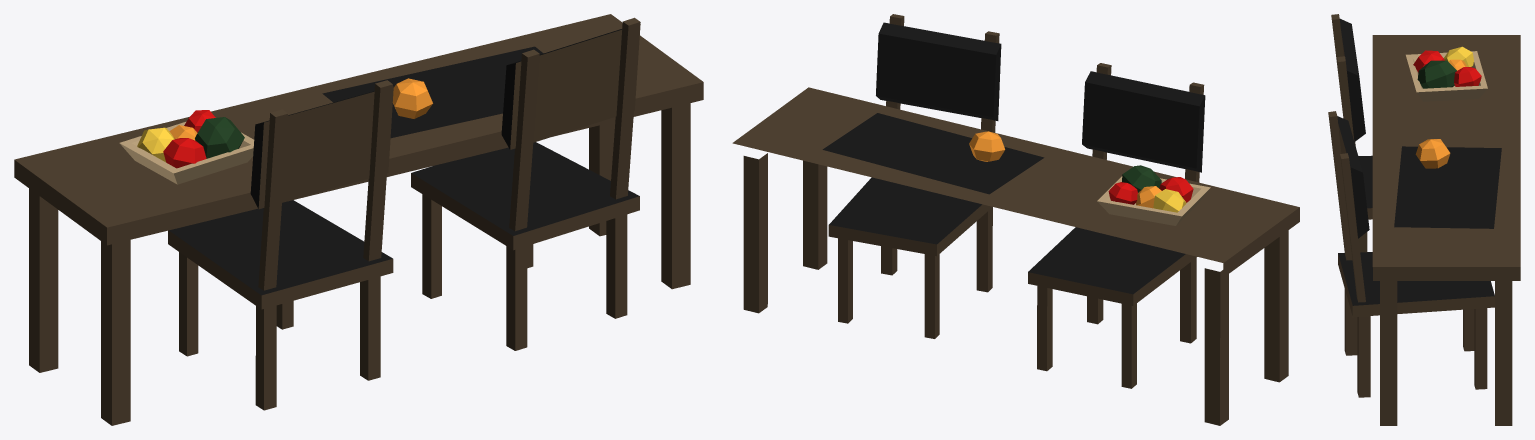
File: TableForTwo.glb
The picture shows the model from 3 angles, left to right: view 1: azimuth 30°, elevation 25°; view 2: azimuth 150°, elevation 25°; view 3: azimuth 270°, elevation 25°; orthographic projection. The views are drawn at different scales.
Parts seen in each view (by area): view 1: TableForTwo; view 2: TableForTwo; view 3: TableForTwo.
Boxes of the visible parts, x1,y1,x2,y2 form: TableForTwo: [14, 14, 703, 425]; TableForTwo: [732, 14, 1299, 425]; TableForTwo: [1328, 14, 1520, 425].
Bounding box in the file's own units: 2.3 × 1.11 × 0.8089.
1 material, 1 textured.
